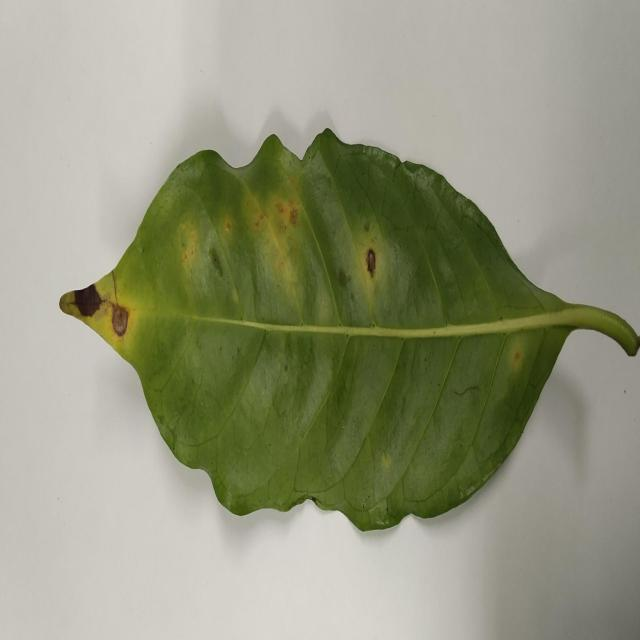Enfermedad-Mancha-de-hierro: (58, 129, 632, 536)
